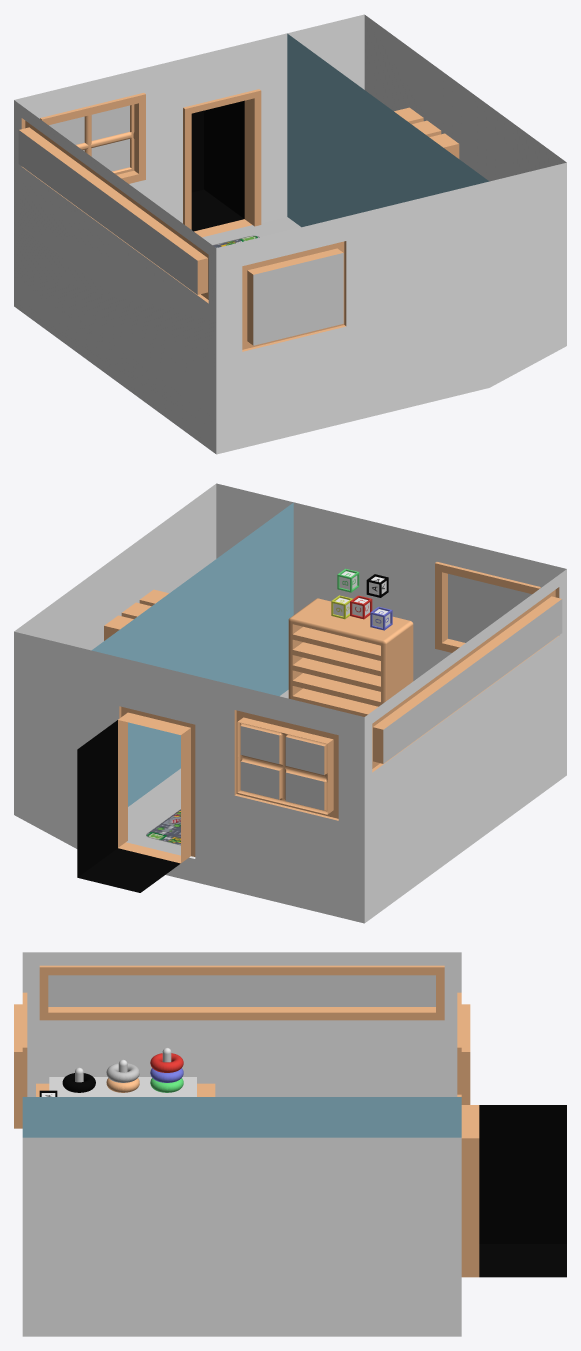
Rendered from mixed stuff room 3.fbx.
The picture shows the model from 3 angles, top to bottom: view 1: azimuth 30°, elevation 25°; view 2: azimuth 150°, elevation 25°; view 3: azimuth 270°, elevation 25°; orthographic projection. The views are drawn at different scales.
Visible parts, largest first — view 1: Room; view 2: Room, wardrobe, carpet; view 3: Room, Puzzle02_Basis, D6, D3, D1.
Boxes of the visible parts, box(x1,y1,x2,y2) form: Room: box(14, 14, 566, 454); Room: box(14, 483, 566, 923); wardrobe: box(288, 598, 413, 716); carpet: box(146, 809, 180, 845); Room: box(14, 952, 566, 1336); Puzzle02_Basis: box(49, 1047, 196, 1096); D6: box(150, 1053, 183, 1072); D3: box(106, 1063, 139, 1082); D1: box(62, 1073, 95, 1092).
Bounding box in the file's own units: 10200 × 5626 × 12600.
